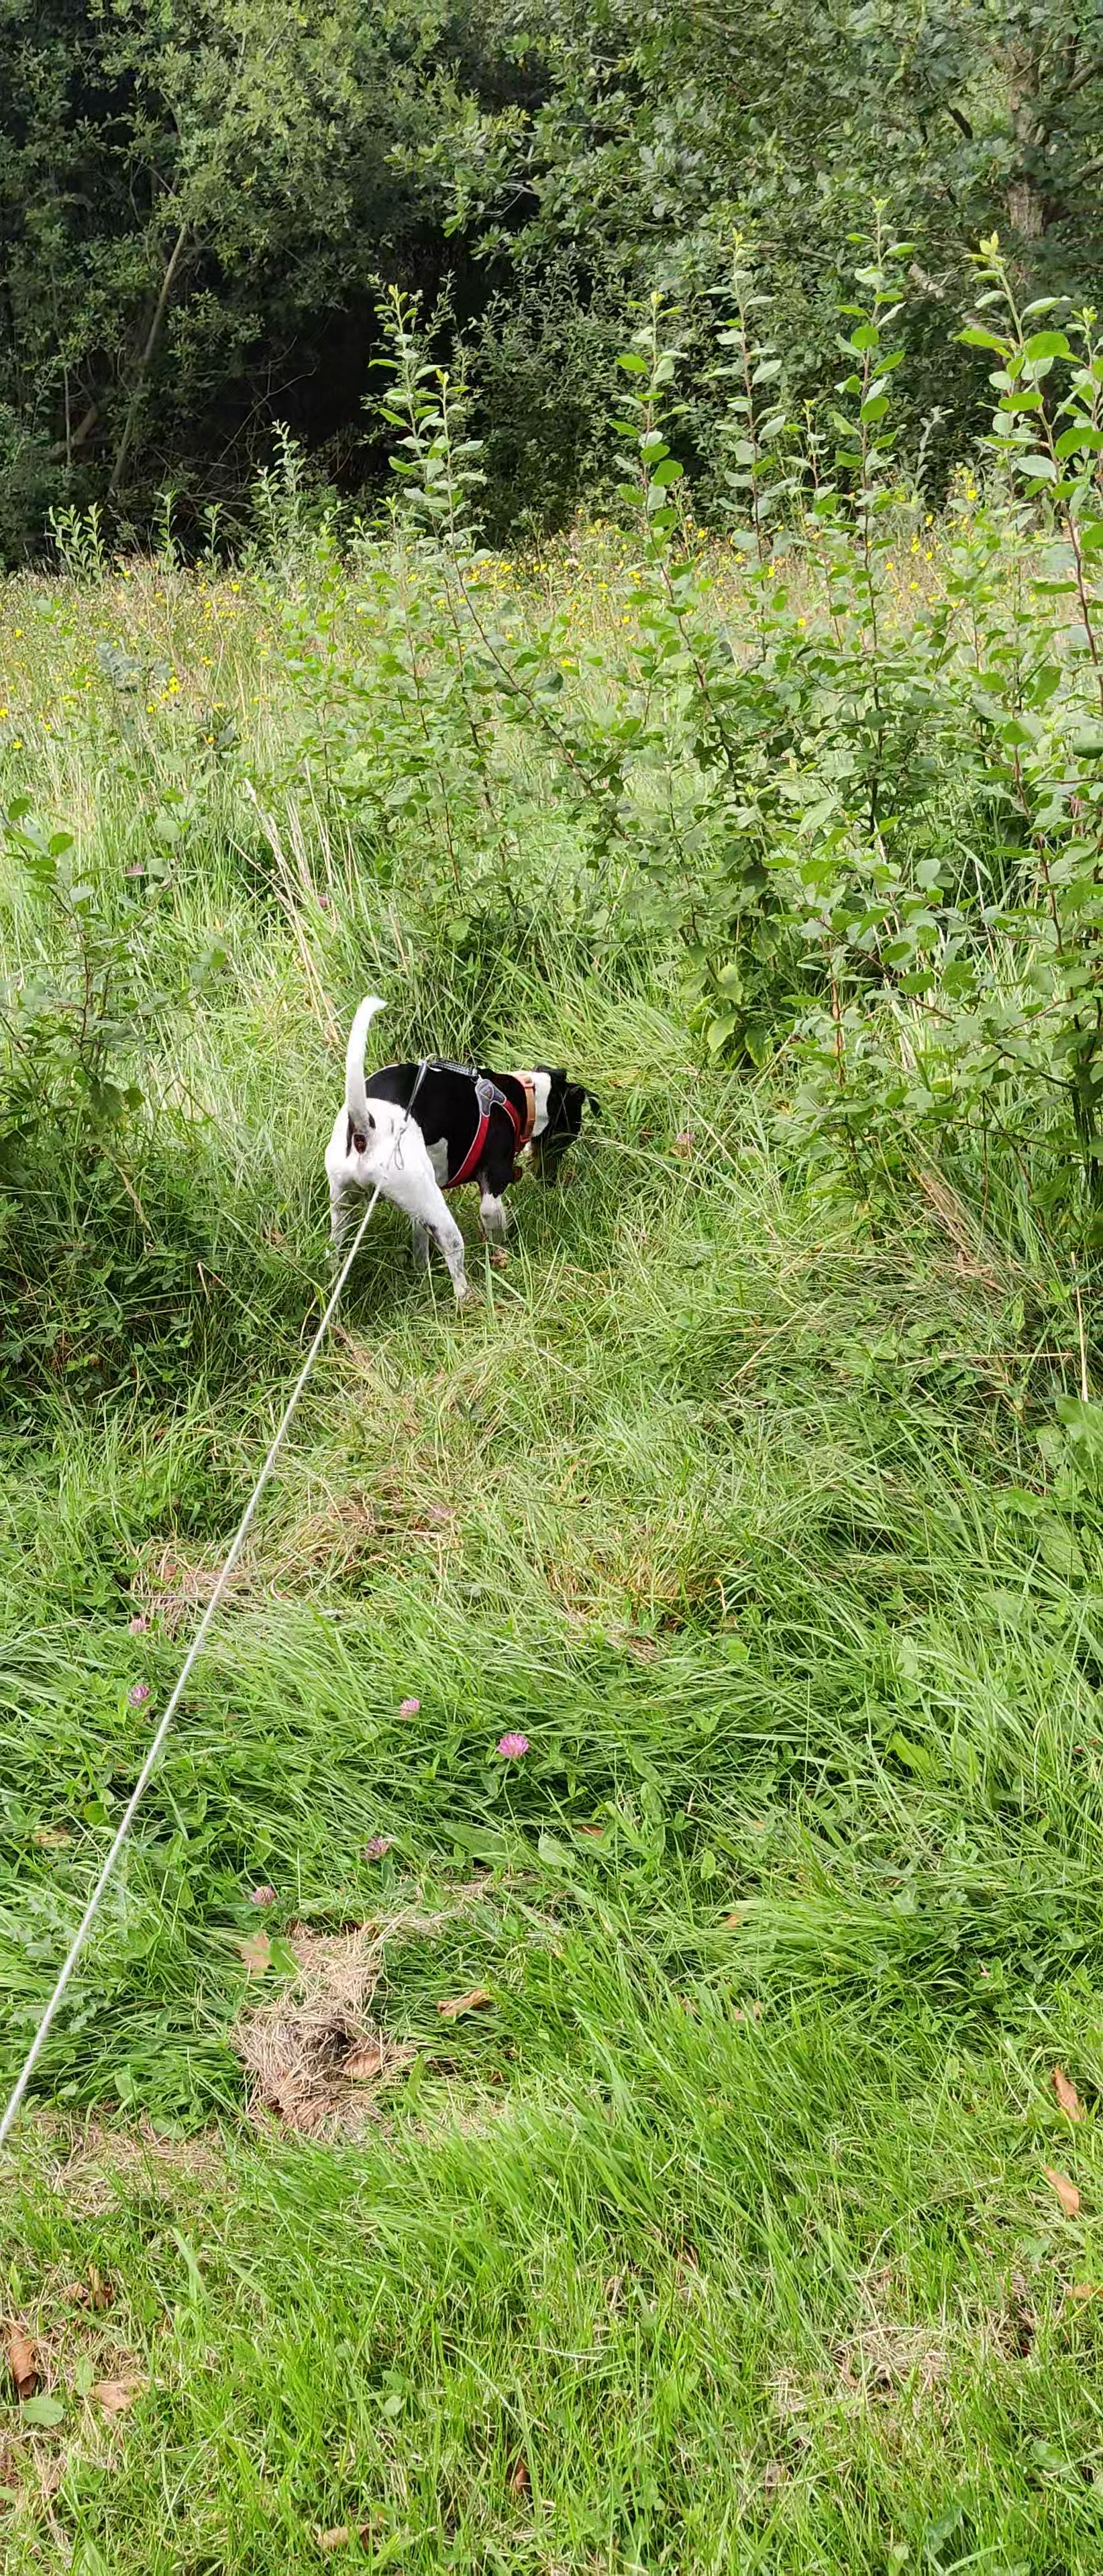Dog: (312, 989, 593, 1327)
